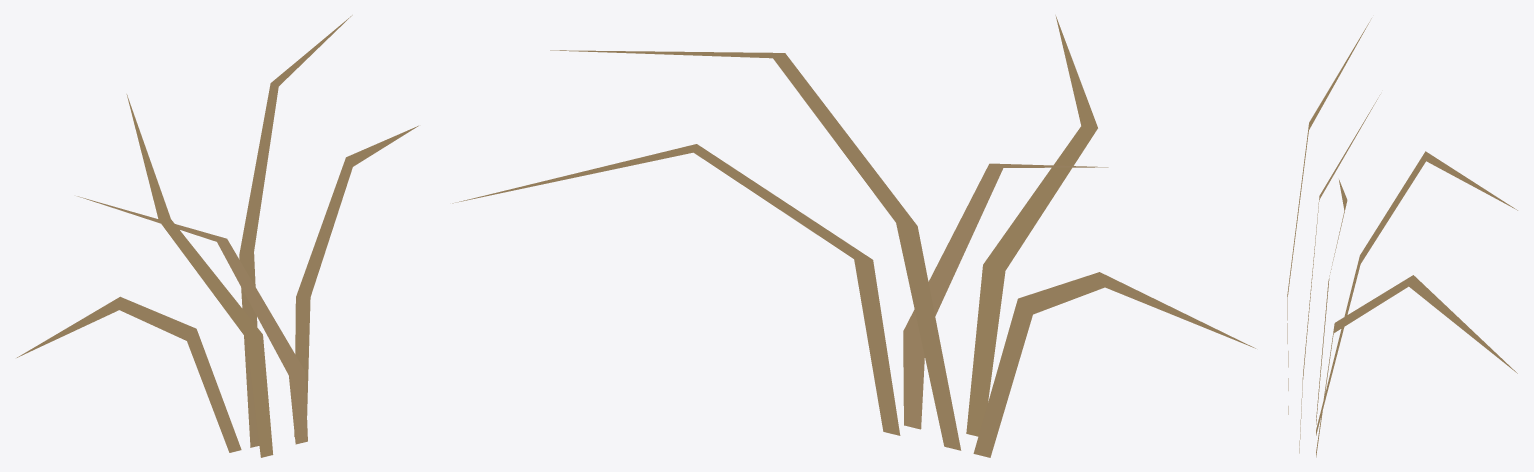
The model's file is Grass_f_OneS_04.fbx.
3 renders of one model, left to right at view 1: azimuth 30°, elevation 25°; view 2: azimuth 150°, elevation 25°; view 3: azimuth 270°, elevation 25°, orthographic. The views are drawn at different scales.
Parts seen in each view (by area): view 1: Grass_f_OneS_04; view 2: Grass_f_OneS_04; view 3: Grass_f_OneS_04.
Boxes of the visible parts, bbox=[...] form: Grass_f_OneS_04: bbox=[17, 15, 418, 457]; Grass_f_OneS_04: bbox=[452, 15, 1255, 457]; Grass_f_OneS_04: bbox=[1287, 18, 1517, 457].
Size of the model in its own units: 0.5627 by 0.39 by 0.2234.
